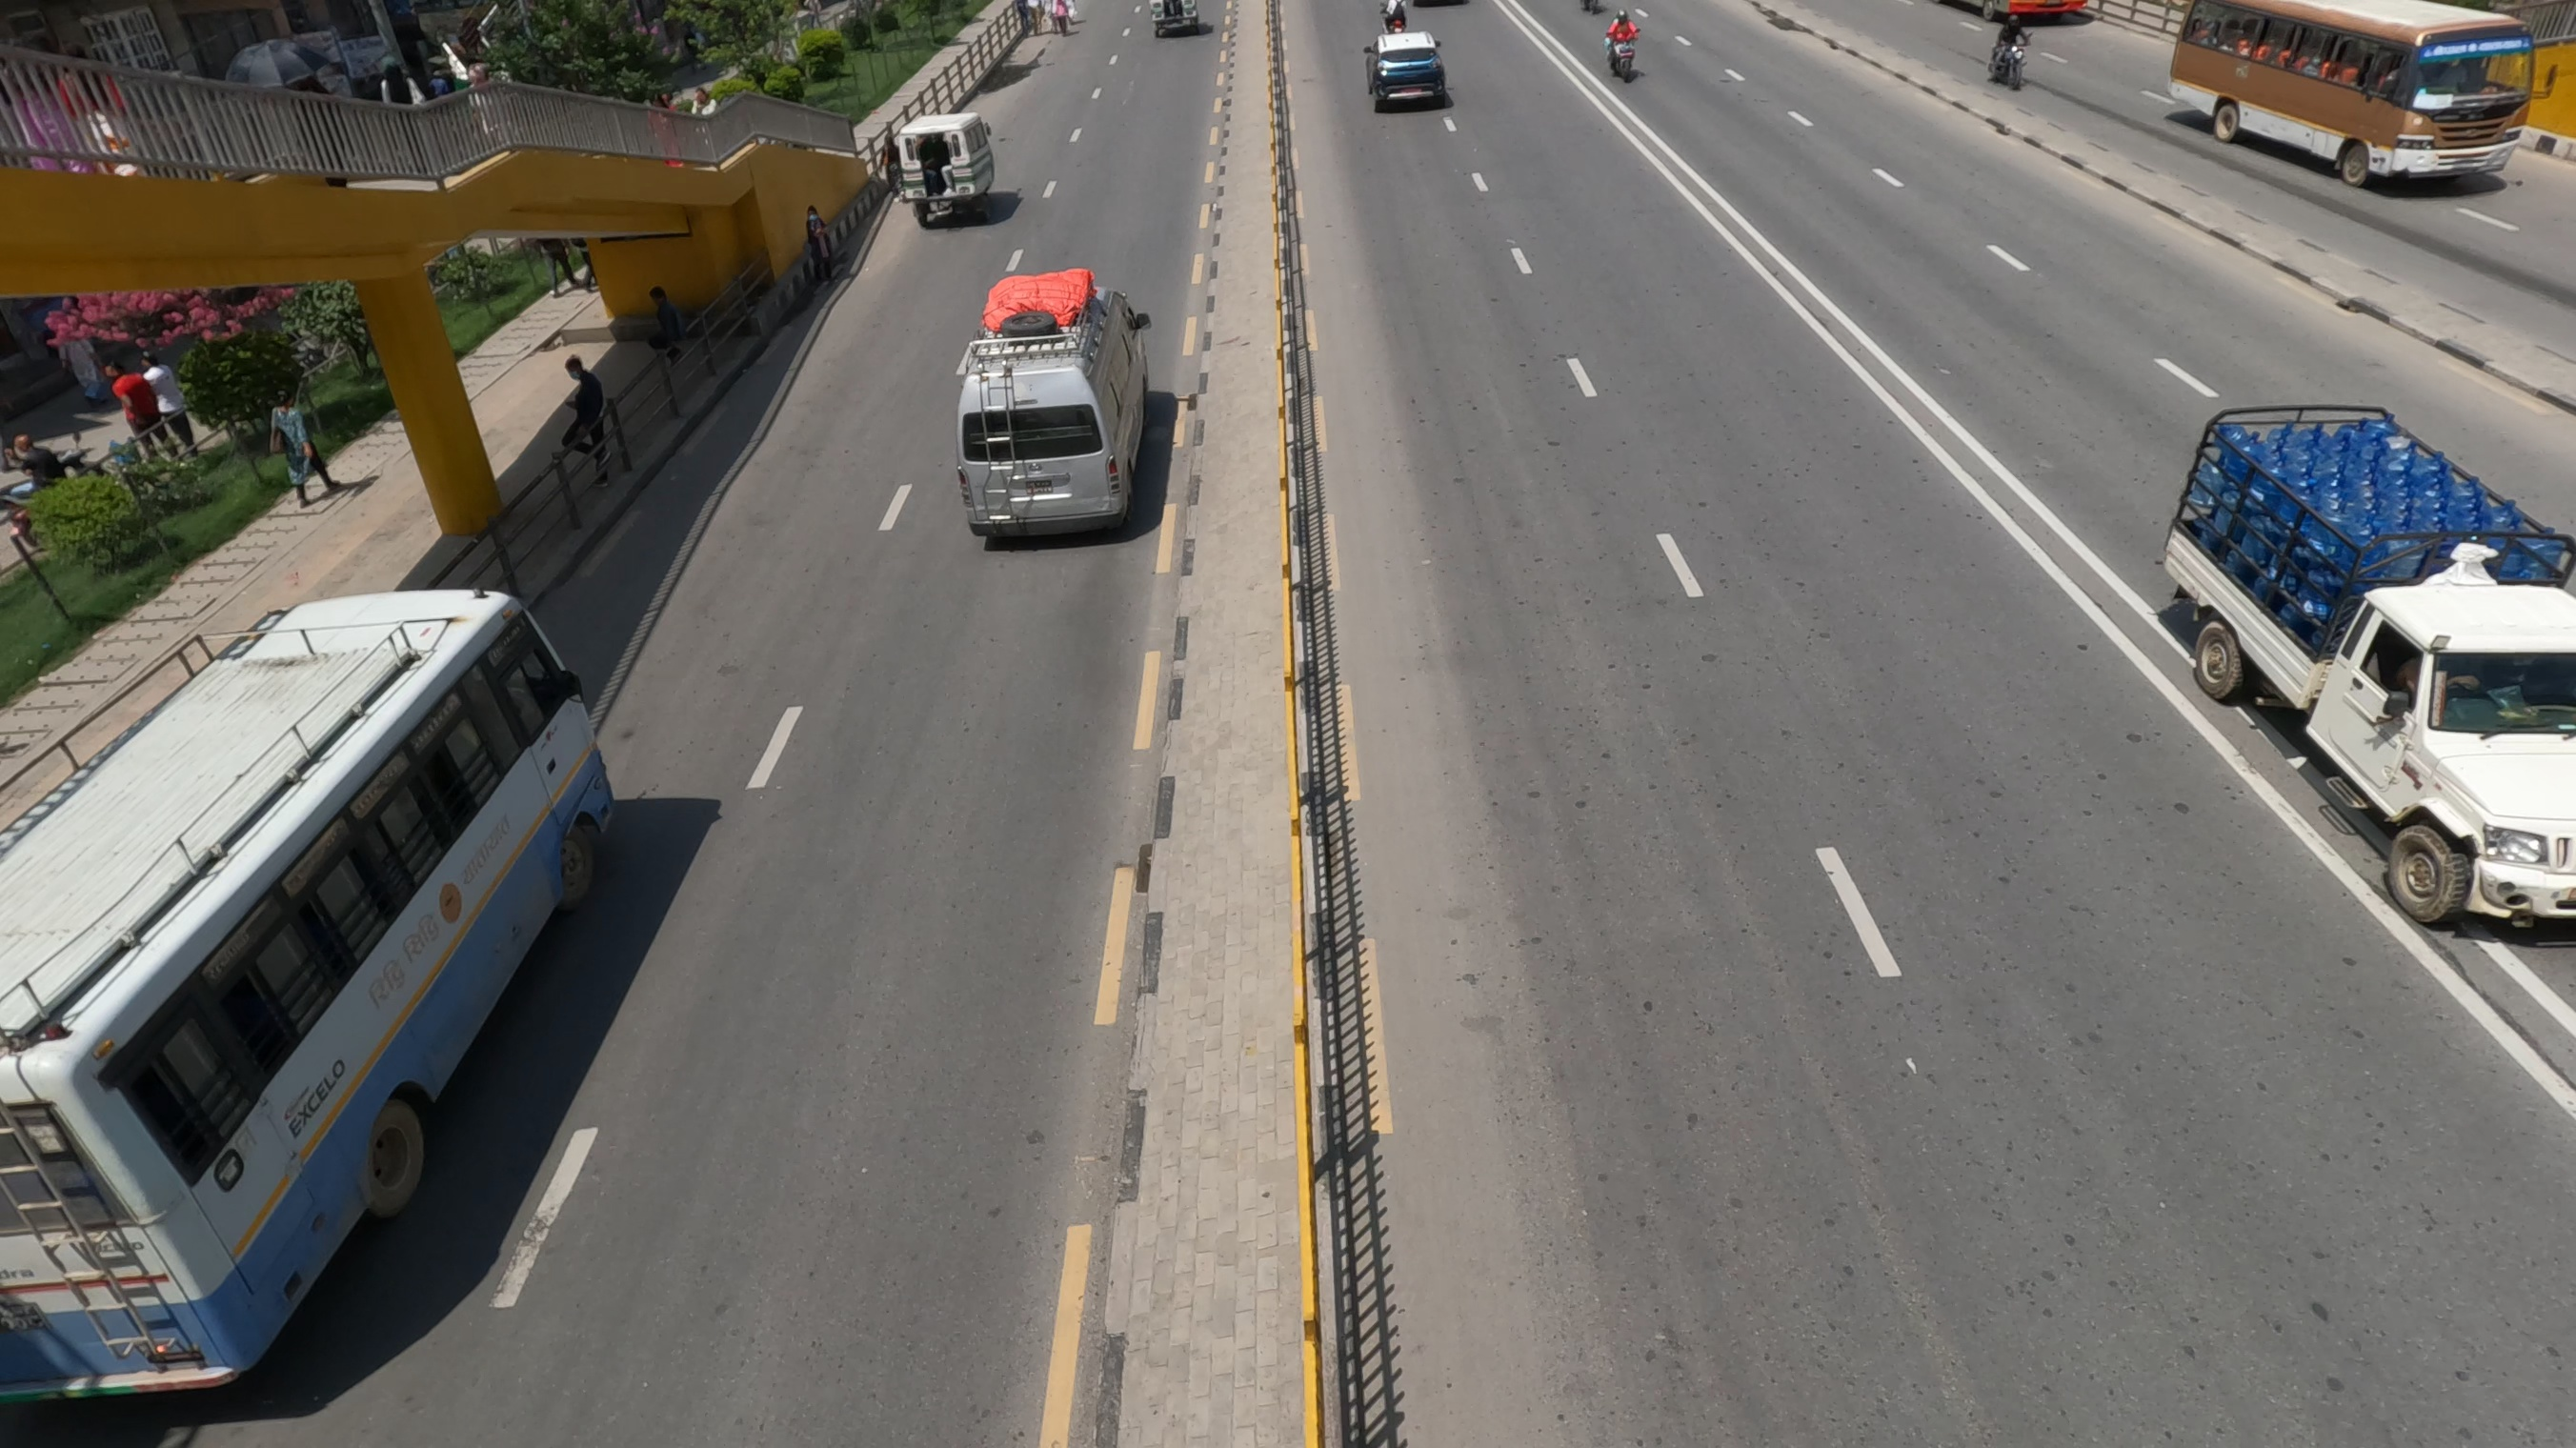normal: (7, 1041, 234, 1384), (899, 129, 989, 218), (1376, 46, 1442, 104)
smoky: (978, 349, 1129, 701)
